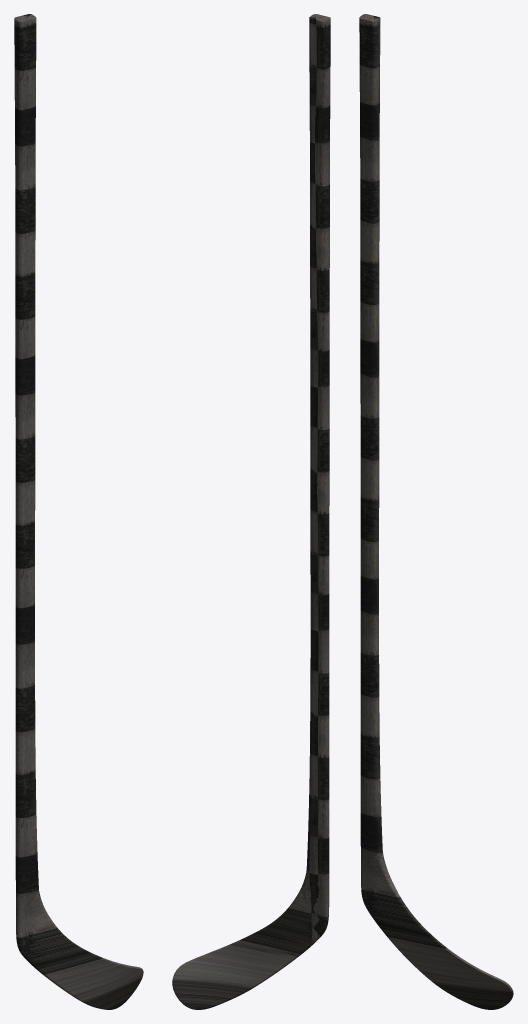
Rendered from P50-SBO-LIE6_5.glb.
3 renders of one model, left to right at view 1: azimuth 30°, elevation 25°; view 2: azimuth 150°, elevation 25°; view 3: azimuth 330°, elevation 25°, orthographic. The views are drawn at different scales.
Visible parts, largest first — view 1: geometry_0; view 2: geometry_0; view 3: geometry_0.
Boxes of the visible parts, bbox=[...] form: geometry_0: bbox=[14, 14, 143, 1009]; geometry_0: bbox=[172, 14, 330, 1009]; geometry_0: bbox=[359, 14, 513, 1009].
Size of the model in its own units: 240 by 1650 by 66.66.
1 material, 1 textured.
